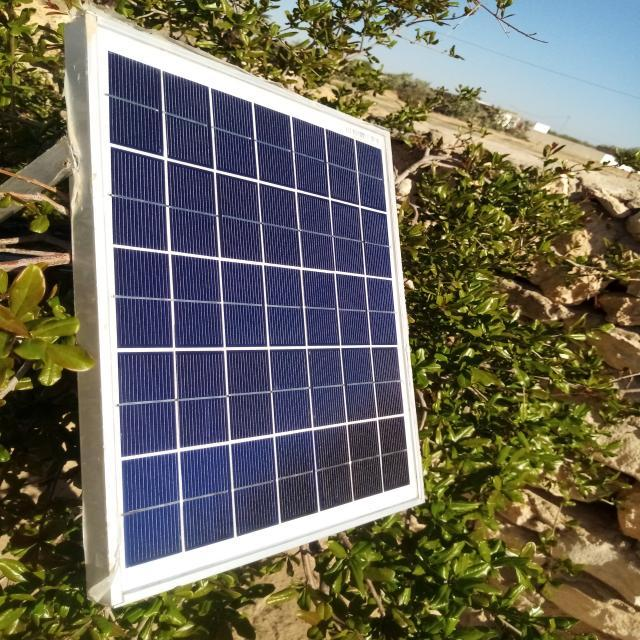no faulty: (86, 11, 423, 611)
